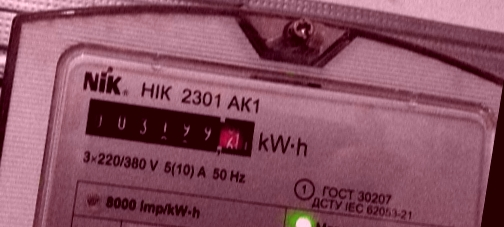0: (115, 111, 129, 132), (93, 109, 104, 128)
1: (159, 115, 171, 134)
3: (137, 115, 150, 136)
6: (224, 133, 236, 149)
9: (180, 118, 193, 139), (202, 123, 214, 142)
screen: (76, 86, 265, 167)
